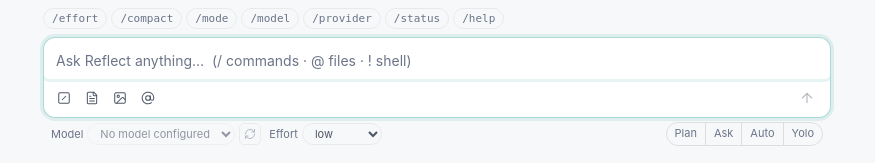
Test: Composer @ file mention (v1.x) › toolbar @ button appends @ and opens the picker directly
The image size is (875, 163).
Click the button with test id "composer-attach-mention" at (148, 98), box [136, 86, 160, 110]
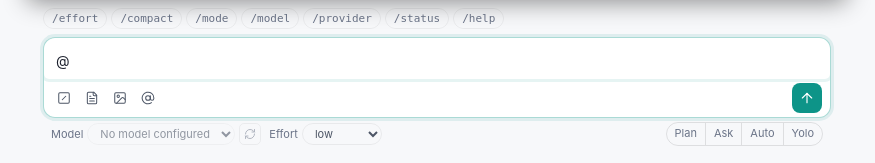
Expected: the text box named "message reflect" holds "@"
已有文本且末尾非空白 → 补前导空格。
Replace the text in the text box named "message reflect" with "hello" at (437, 58), box [44, 38, 830, 79]
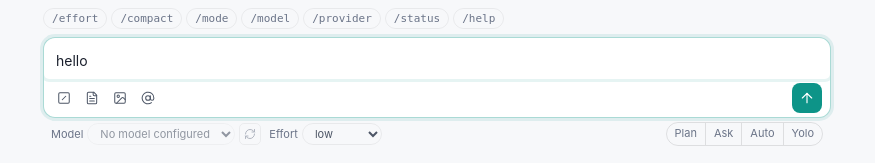
Click the button with test id "composer-attach-mention" at (148, 98), box [136, 86, 160, 110]
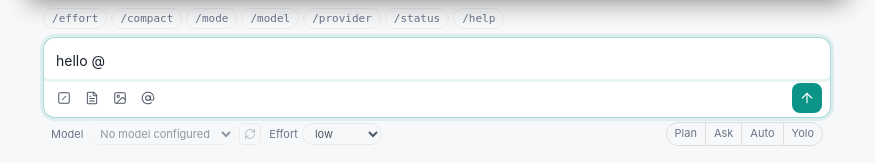
Expected: the text box named "message reflect" holds "hello @", [44, 38, 830, 79]
